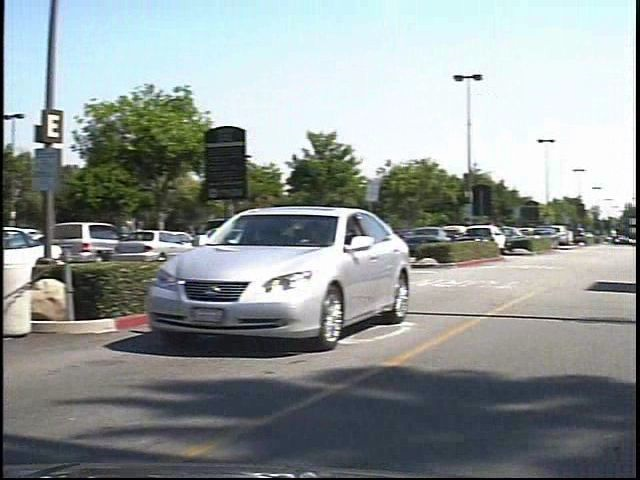person: (129, 214, 156, 264)
